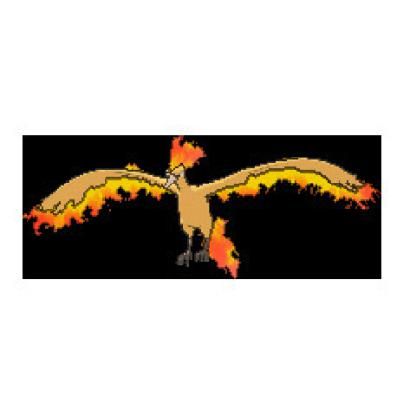Moltres: (13, 127, 385, 298)
